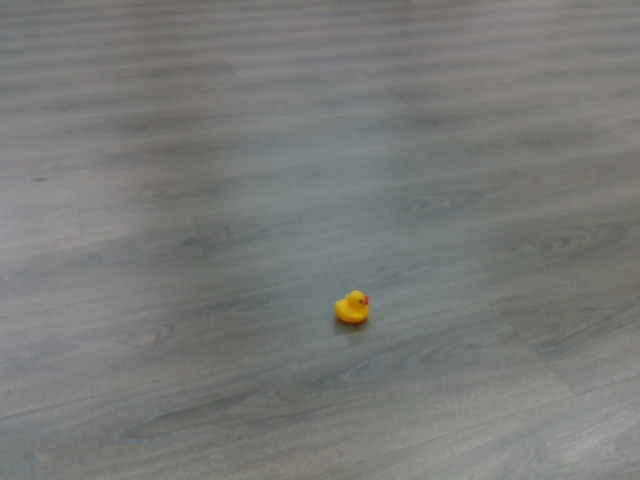duck: (331, 289, 374, 324)
